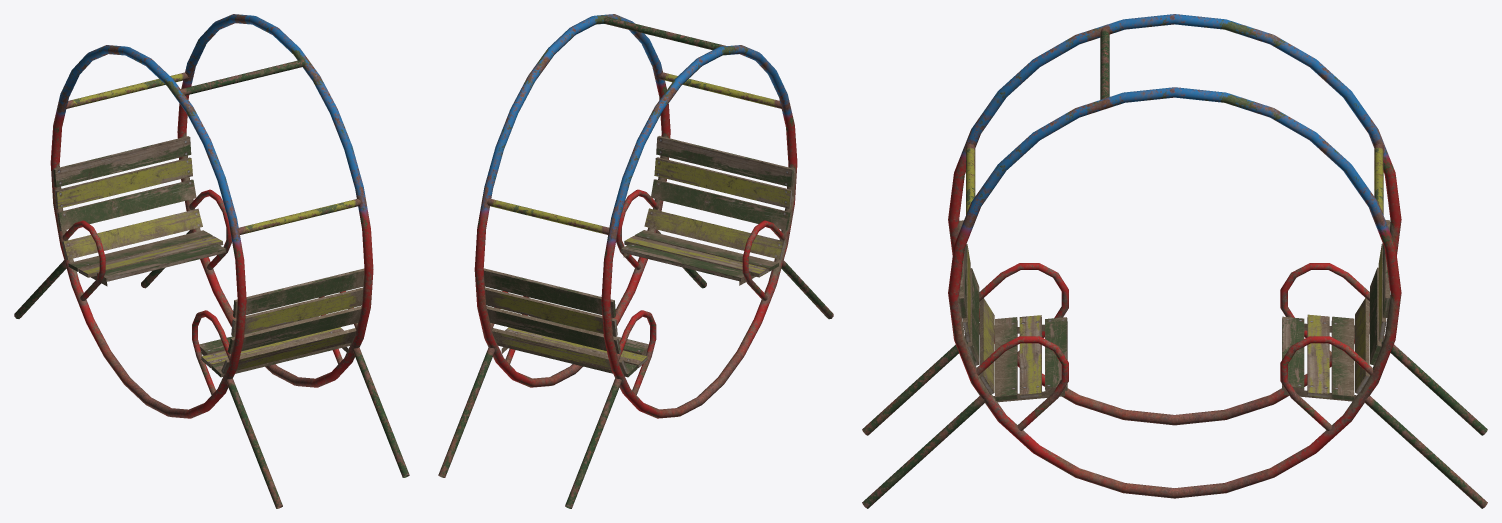
Rendered from abandoned_bench.glb.
The picture shows the model from 3 angles, left to right: view 1: azimuth 30°, elevation 25°; view 2: azimuth 150°, elevation 25°; view 3: azimuth 270°, elevation 25°; orthographic projection. The views are drawn at different scales.
Visible parts, largest first — view 1: bench_bench_mat_0; view 2: bench_bench_mat_0; view 3: bench_bench_mat_0.
Boxes of the visible parts, left/top/right/bottom form: bench_bench_mat_0: left=14, top=14, right=409, bottom=508; bench_bench_mat_0: left=438, top=14, right=833, bottom=508; bench_bench_mat_0: left=862, top=14, right=1487, bottom=508.
Bounding box in the file's own units: 1.01 × 2.52 × 3.4.
1 material, 1 textured.
